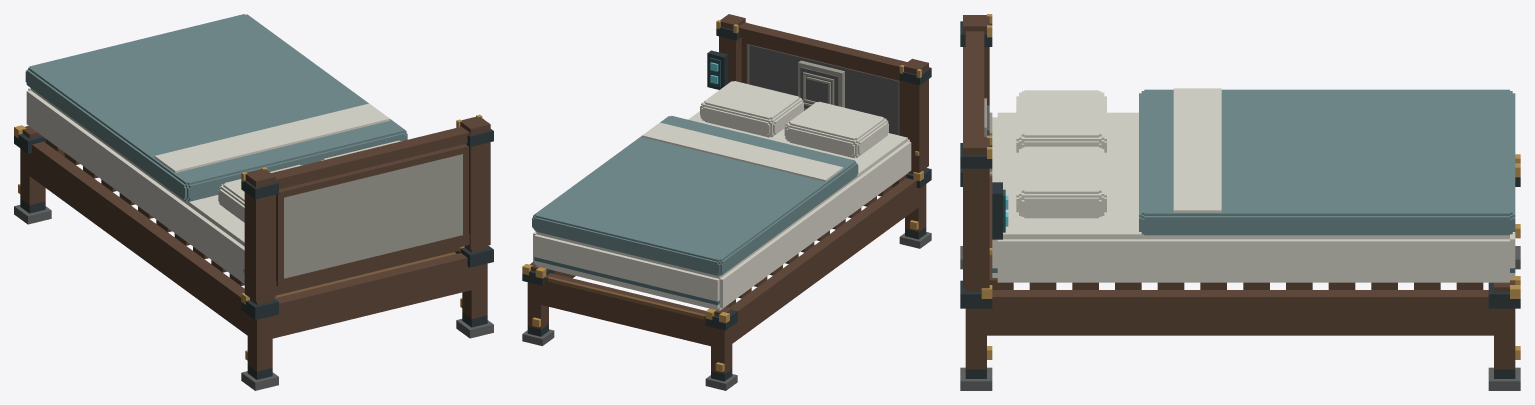
The model's file is visual-far.glb.
3 views of the same model, side by side, from view 1: azimuth 30°, elevation 25°; view 2: azimuth 150°, elevation 25°; view 3: azimuth 270°, elevation 25° (orthographic). The views are drawn at different scales.
Parts seen in each view (by area): view 1: 被褥及枕头组合, 床头靠板, 住宅床架, 床垫基础块; view 2: 被褥及枕头组合, 住宅床架, 床头靠板, 床垫基础块; view 3: 被褥及枕头组合, 床垫基础块, 住宅床架, 床头靠板.
Part boxes in pixels (x1,y1,x2,y2): 被褥及枕头组合: (25, 14, 407, 222); 床头靠板: (241, 114, 493, 302); 住宅床架: (14, 125, 493, 390); 床垫基础块: (26, 88, 244, 283); 被褥及枕头组合: (532, 81, 888, 275); 住宅床架: (522, 168, 931, 390); 床头靠板: (707, 14, 931, 172); 床垫基础块: (533, 111, 911, 310); 被褥及枕头组合: (1016, 88, 1515, 235); 床垫基础块: (992, 112, 1515, 282); 住宅床架: (960, 154, 1520, 390); 床头靠板: (960, 14, 1008, 288).
Bounding box in the file's own units: 1.23 × 1 × 2.1.
Materials: 11 (11 with a texture image).
